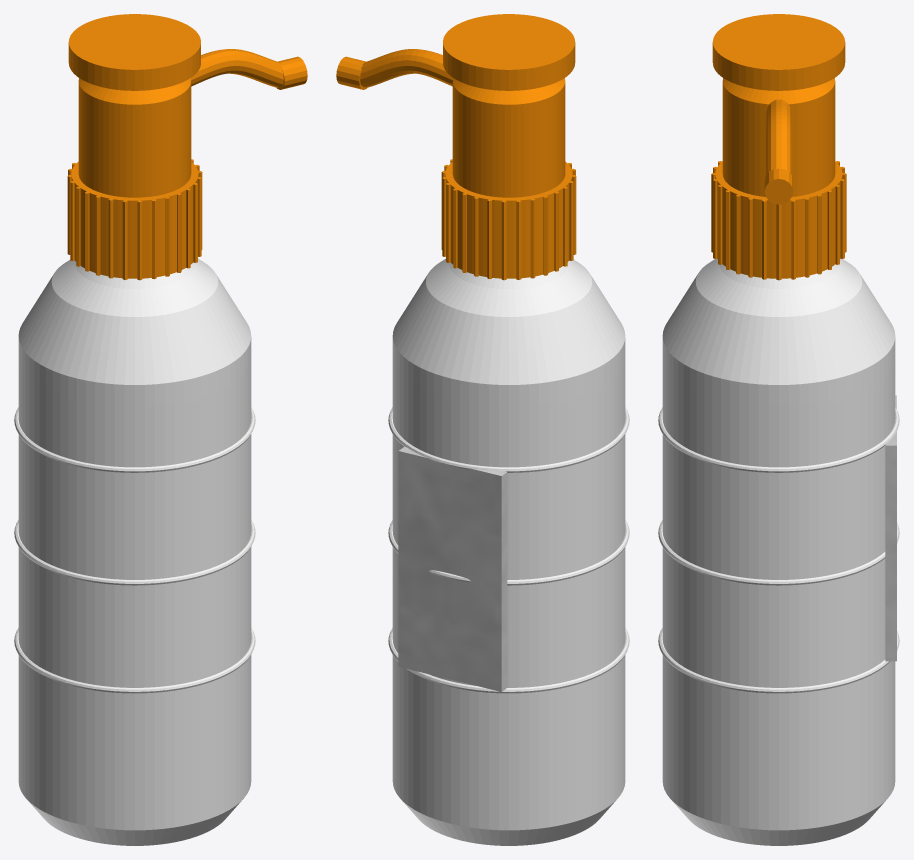
Rendered from Container_Dispenser__0058.glb.
3 views of the same model, side by side, from view 1: azimuth 30°, elevation 25°; view 2: azimuth 150°, elevation 25°; view 3: azimuth 270°, elevation 25° (orthographic).
Visible parts, largest first — view 1: bottle::bottle_shell, pump_head::pump_head_shell, collar::collar_shell, spout::spout_shell; view 2: bottle::bottle_shell, bottle::front_label, pump_head::pump_head_shell, collar::collar_shell, spout::spout_shell; view 3: bottle::bottle_shell, pump_head::pump_head_shell, collar::collar_shell, bottle::front_label, spout::spout_shell.
Part boxes in pixels (x1=…): bottle::bottle_shell: x1=14, y1=258, x2=255, y2=845; pump_head::pump_head_shell: x1=68, y1=14, x2=200, y2=197; collar::collar_shell: x1=67, y1=159, x2=202, y2=280; spout::spout_shell: x1=191, y1=49, x2=307, y2=89; bottle::bottle_shell: x1=388, y1=258, x2=629, y2=845; bottle::front_label: x1=398, y1=446, x2=507, y2=691; pump_head::pump_head_shell: x1=443, y1=14, x2=575, y2=197; collar::collar_shell: x1=441, y1=159, x2=576, y2=280; spout::spout_shell: x1=336, y1=49, x2=452, y2=89; bottle::bottle_shell: x1=658, y1=258, x2=899, y2=845; pump_head::pump_head_shell: x1=712, y1=14, x2=845, y2=196; collar::collar_shell: x1=711, y1=161, x2=846, y2=280; bottle::front_label: x1=885, y1=395, x2=896, y2=661; spout::spout_shell: x1=764, y1=99, x2=793, y2=204.
Size of the model in its own units: 0.0942 by 0.2545 by 0.0729.
Materials: 4 (4 with a texture image).
